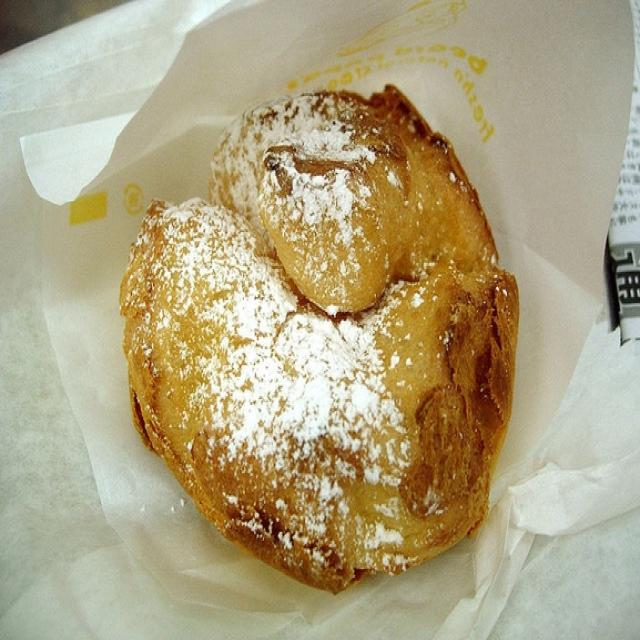炸货点心: (6, 0, 624, 618)
蛋糕甜品: (6, 0, 624, 618)
